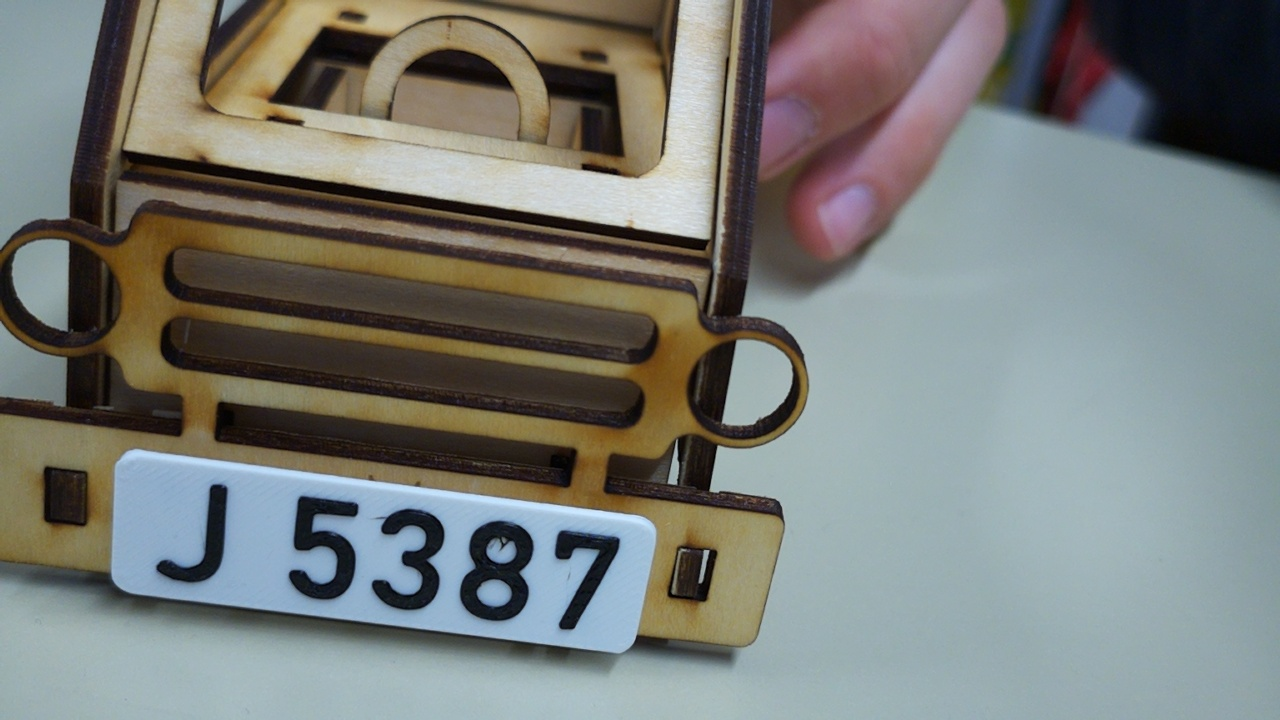license_plate: (107, 444, 662, 662)
